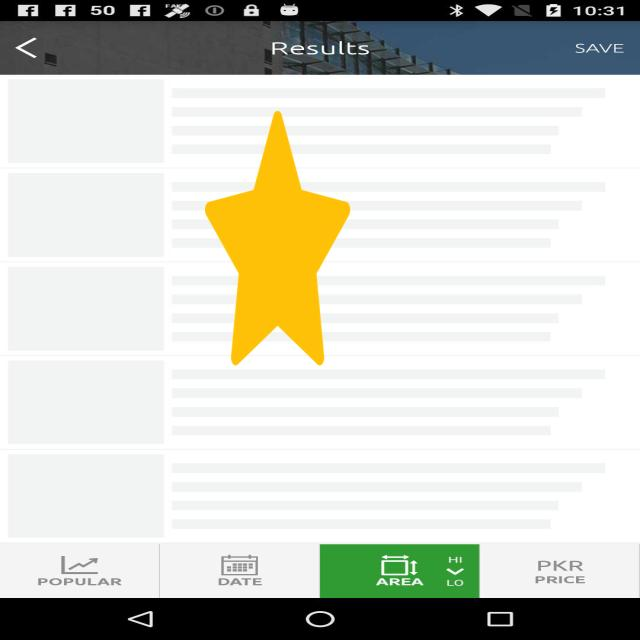forced continuity: (205, 110, 350, 366)
